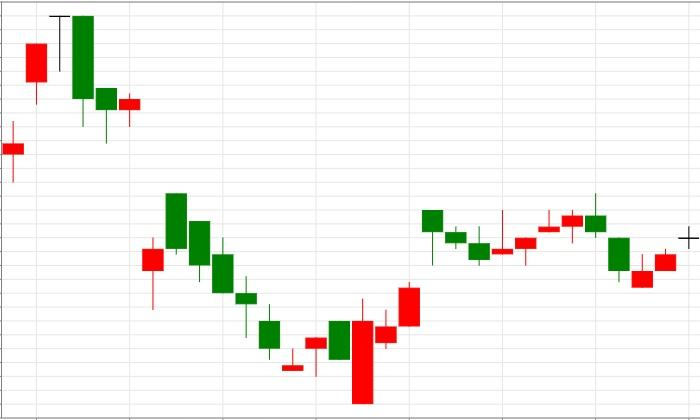bullish_engulfing_rise: (166, 193, 373, 404)
